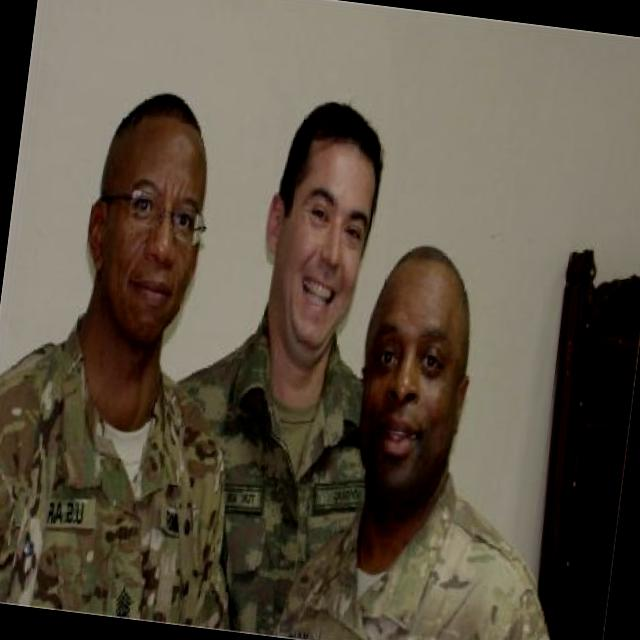Person: (0, 74, 294, 630), (145, 84, 411, 640), (274, 232, 609, 640)
